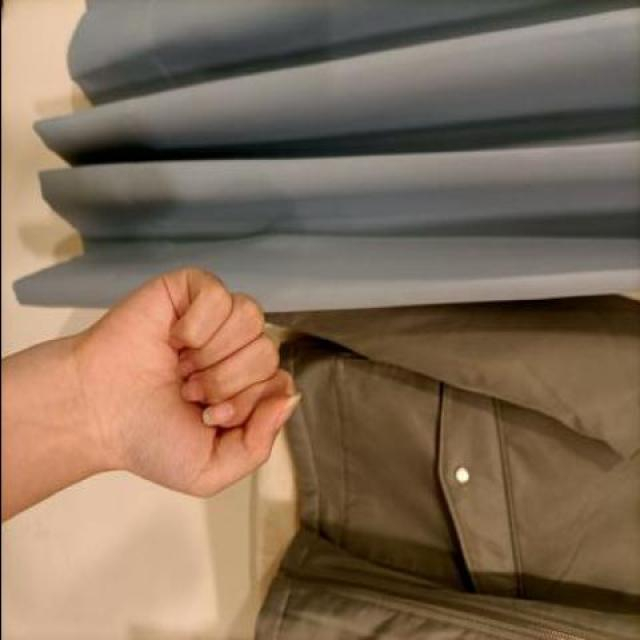fist: (86, 257, 301, 503)
